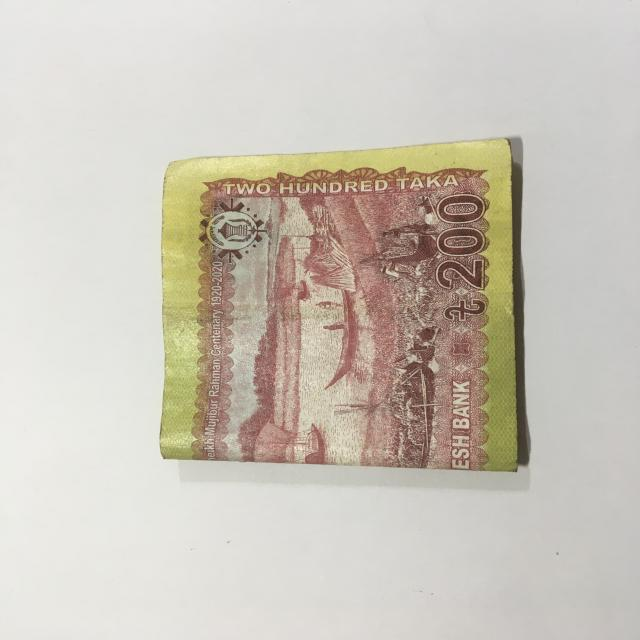Taka: (144, 152, 529, 471)
